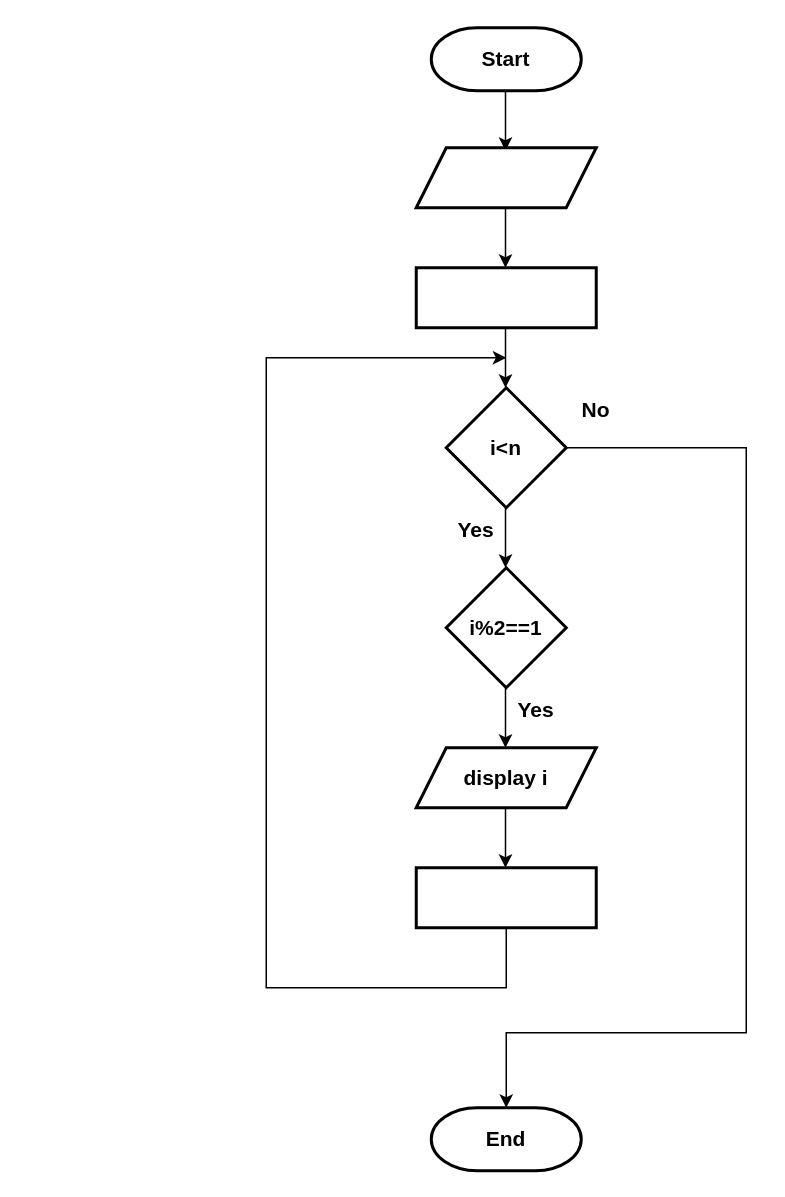
This 785x1197 diagram has some shape labels left out. Here are the shapes that lost their labels. From the top down, the centre of each, then its label:
At point (505, 177): "int n".
At point (505, 297): "int i=0".
At point (505, 897): "i++".
